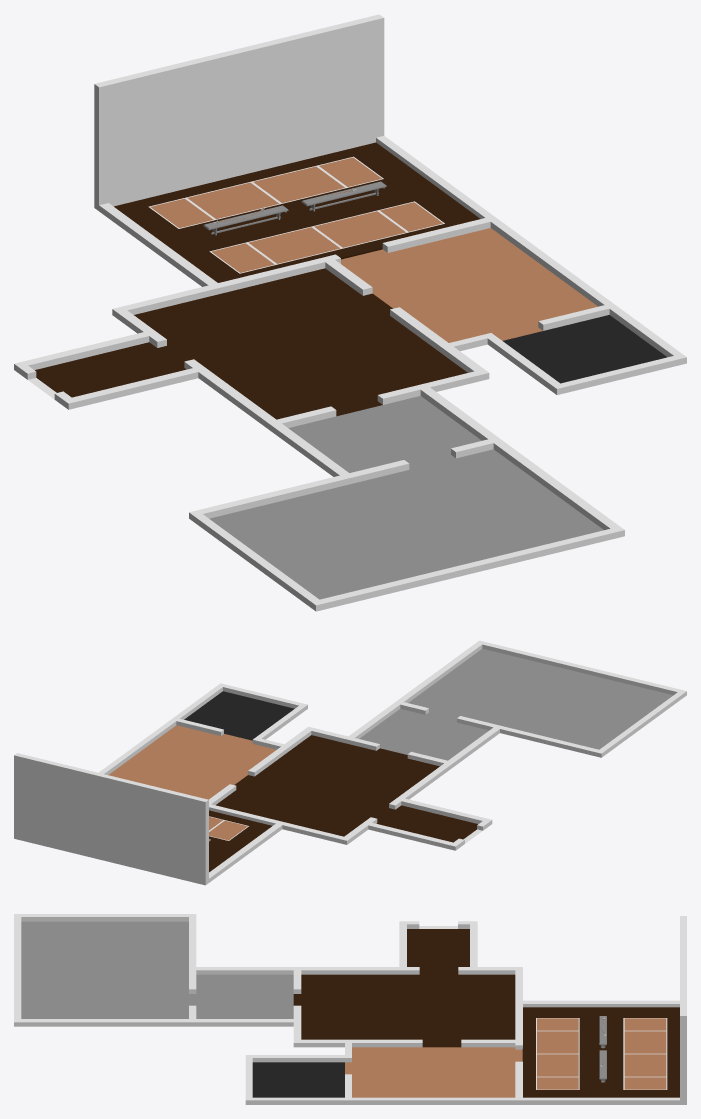
File: Salle_05_b.FBX
The picture shows the model from 3 angles, top to bottom: view 1: azimuth 30°, elevation 25°; view 2: azimuth 150°, elevation 25°; view 3: azimuth 270°, elevation 25°; orthographic projection. The views are drawn at different scales.
Visible parts, largest first — view 1: Piece_05, Escrime_Sol; view 2: Piece_05, Escrime_Sol; view 3: Piece_05, Escrime_Sol.
Part boxes in pixels (<box>): Piece_05: <box>14,14,686,611</box>; Escrime_Sol: <box>114,142,479,282</box>; Piece_05: <box>14,640,686,885</box>; Escrime_Sol: <box>209,810,271,872</box>; Piece_05: <box>14,914,686,1104</box>; Escrime_Sol: <box>522,1007,679,1097</box>.
Bounding box in the file's own units: 1347 × 300 × 2055.
